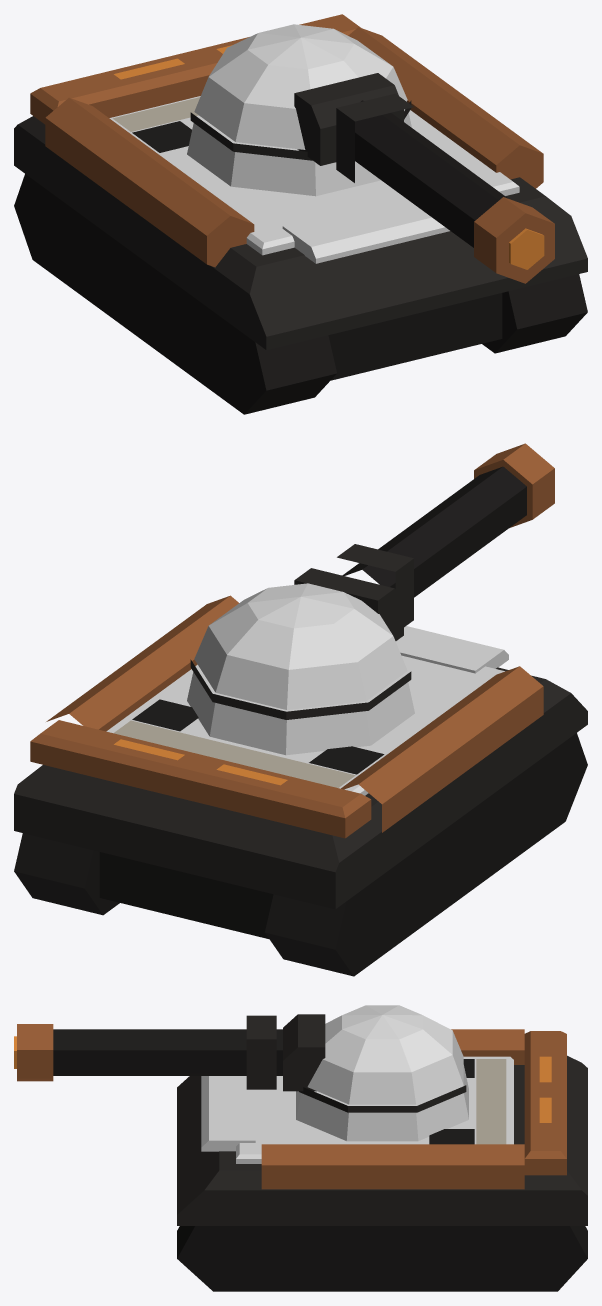
The model's file is lnd_t1_tank.36036fac.raw.glb.
3 renders of one model, top to bottom at view 1: azimuth 30°, elevation 25°; view 2: azimuth 150°, elevation 25°; view 3: azimuth 270°, elevation 25°, orthographic. The views are drawn at different scales.
Visible parts, largest first — view 1: lod0; view 2: lod0; view 3: lod0.
Boxes of the visible parts, x1,y1,x2,y2 form: lod0: (14, 14, 587, 414); lod0: (14, 443, 587, 976); lod0: (14, 1005, 587, 1291).
Size of what is drawn, in the model's own units: 1.05 by 0.778 by 1.9.
